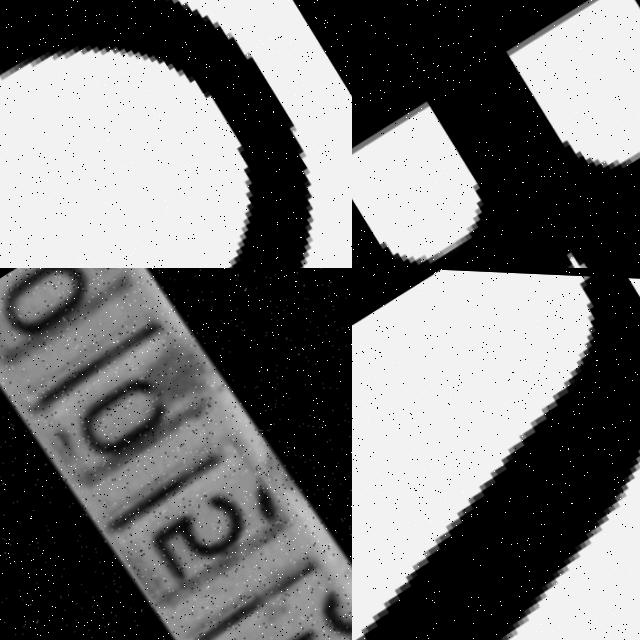0: (53, 347, 191, 476), (0, 268, 108, 353)
1: (202, 585, 342, 640)
5: (122, 464, 269, 600)
J: (352, 268, 640, 640)
